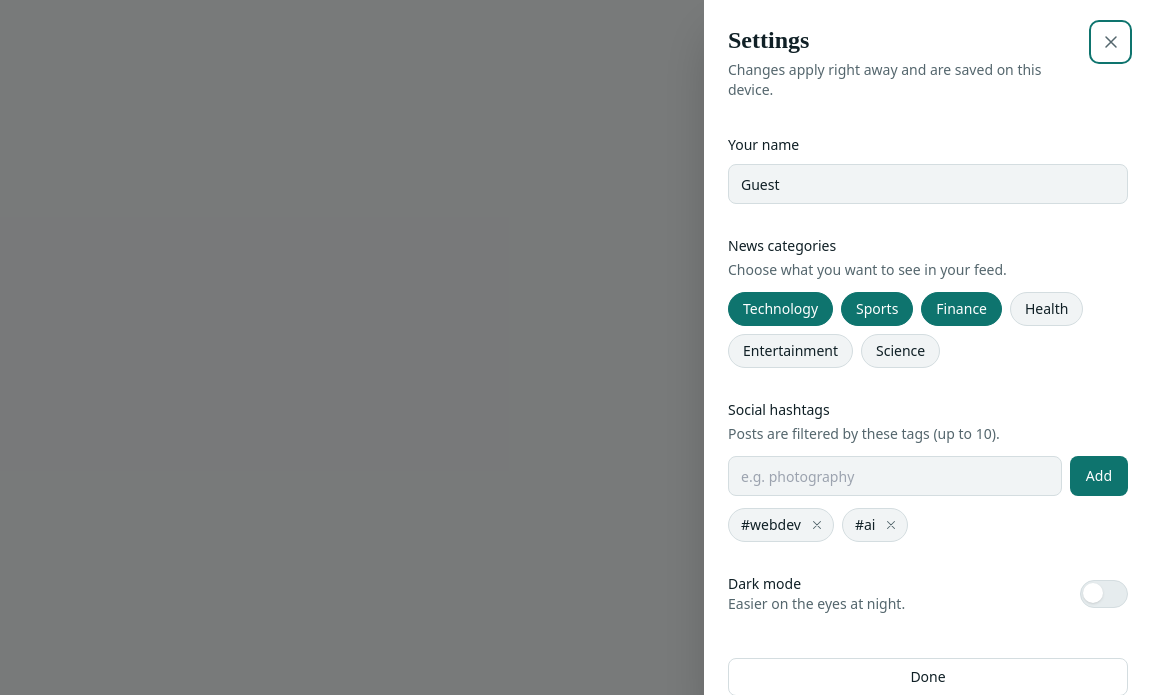
Test: SettingsPanel › shows a hint when no category is selected
The width and height of the screenshot is (1152, 695).
Click the button "Technology" at (780, 309), box [728,292,833,326]
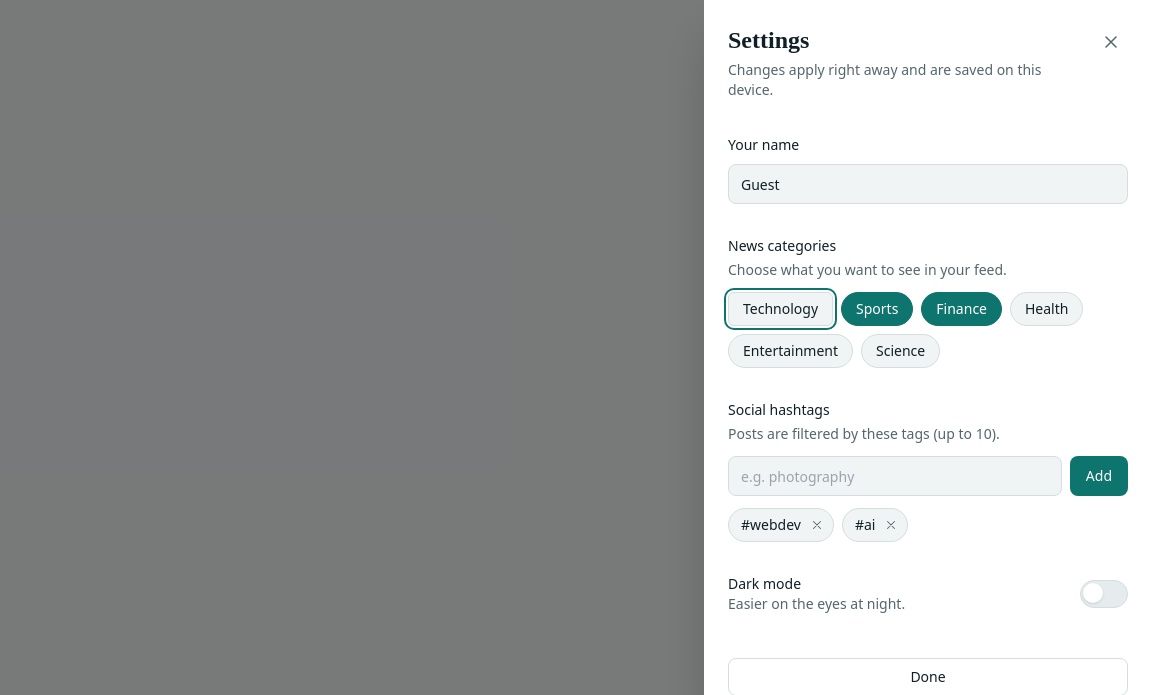
Click the button "Sports" at (877, 309), box [841,292,913,326]
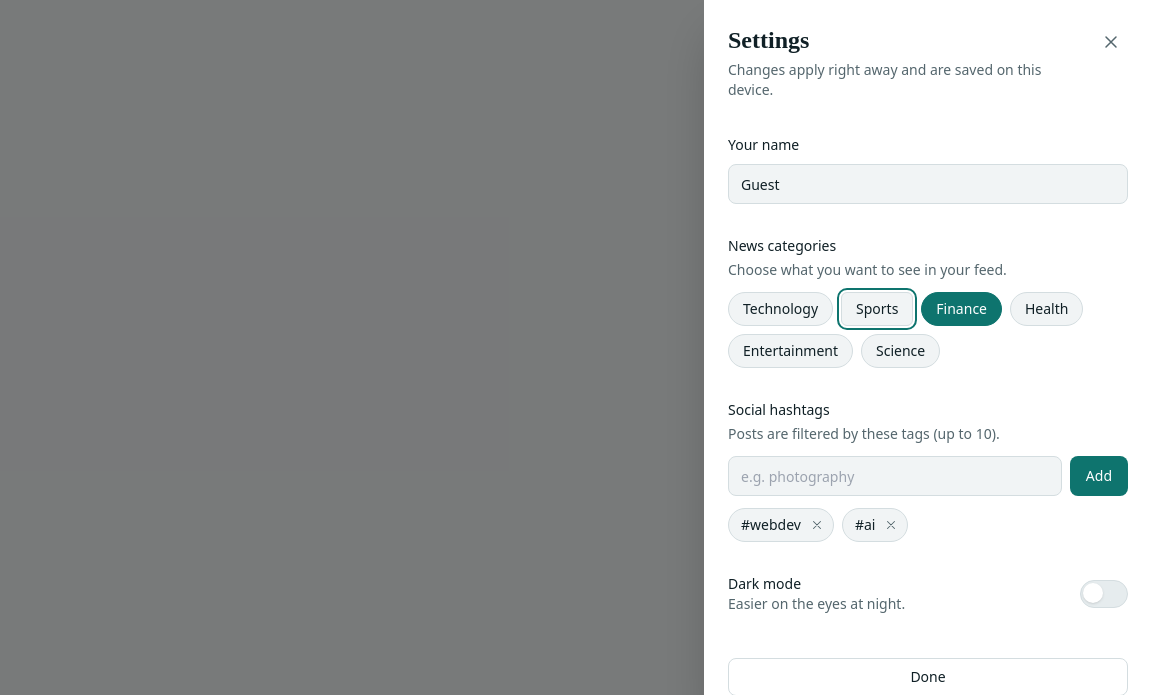
Click the button "Finance" at (962, 309), box [921,292,1002,326]
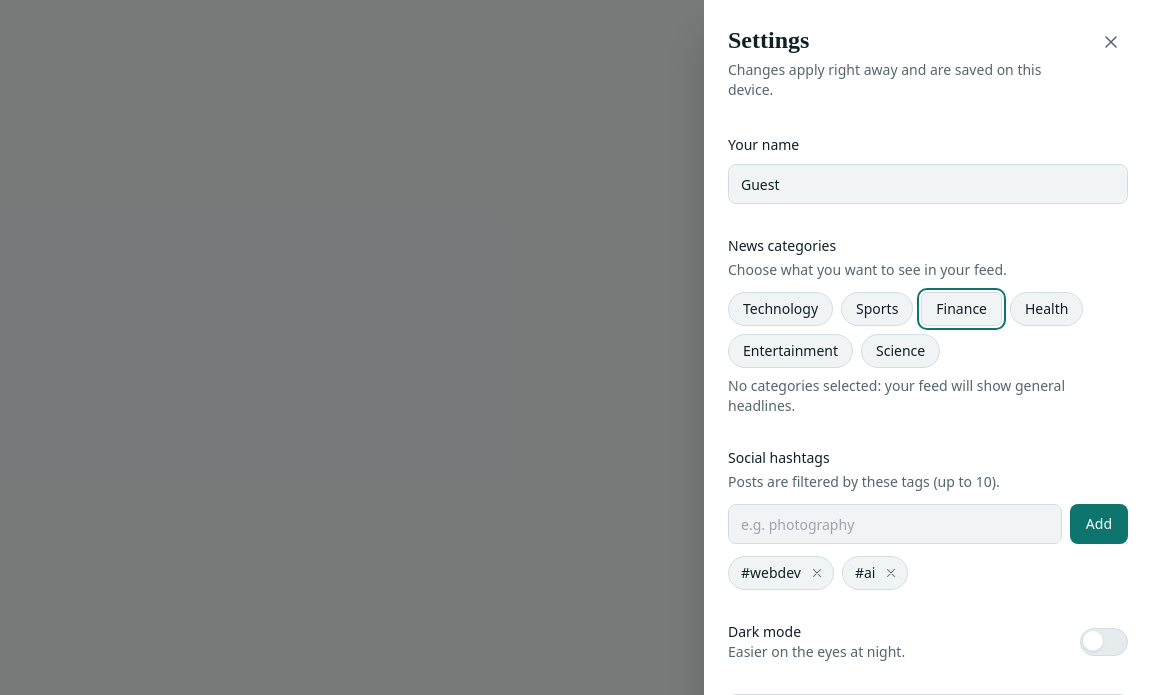
Check: the text "No categories selected: your feed will show general headlines." is shown, box [728,376,1065,415]
